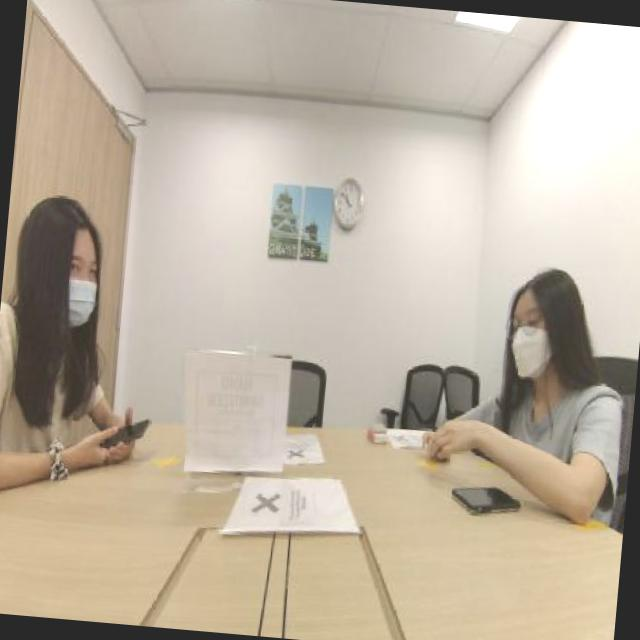Person: (0, 155, 138, 478), (464, 234, 630, 484)
